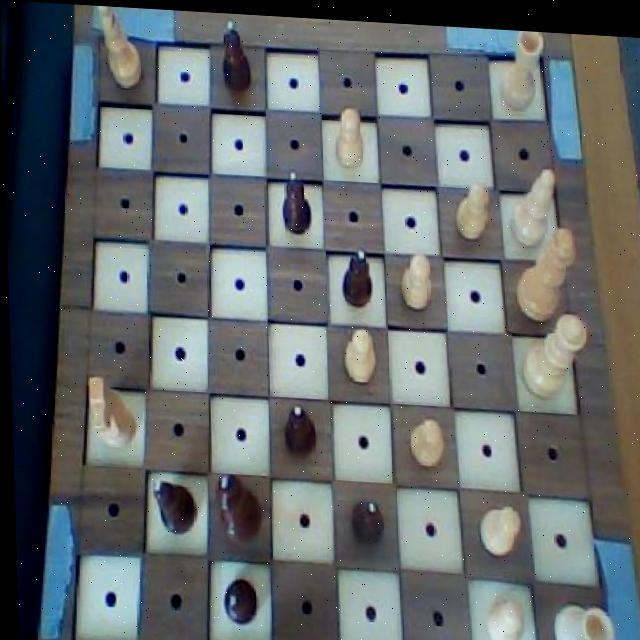bishop: (146, 472, 195, 536)
black-bishop: (206, 465, 263, 547)
black-knight: (215, 12, 254, 94), (339, 242, 378, 309), (216, 570, 260, 626), (277, 397, 317, 458), (344, 489, 386, 547), (279, 165, 313, 234)
black-rook: (95, 4, 148, 96), (507, 156, 560, 246)
white-bishop: (512, 214, 581, 321)
white-king: (80, 370, 137, 451)
white-knight: (452, 171, 495, 240), (330, 100, 370, 171), (476, 494, 522, 555), (337, 321, 378, 384), (396, 246, 436, 310), (480, 585, 526, 640), (407, 410, 444, 467)
white-pawn: (514, 302, 592, 399)
white-queen: (494, 23, 549, 109), (548, 591, 614, 640)
